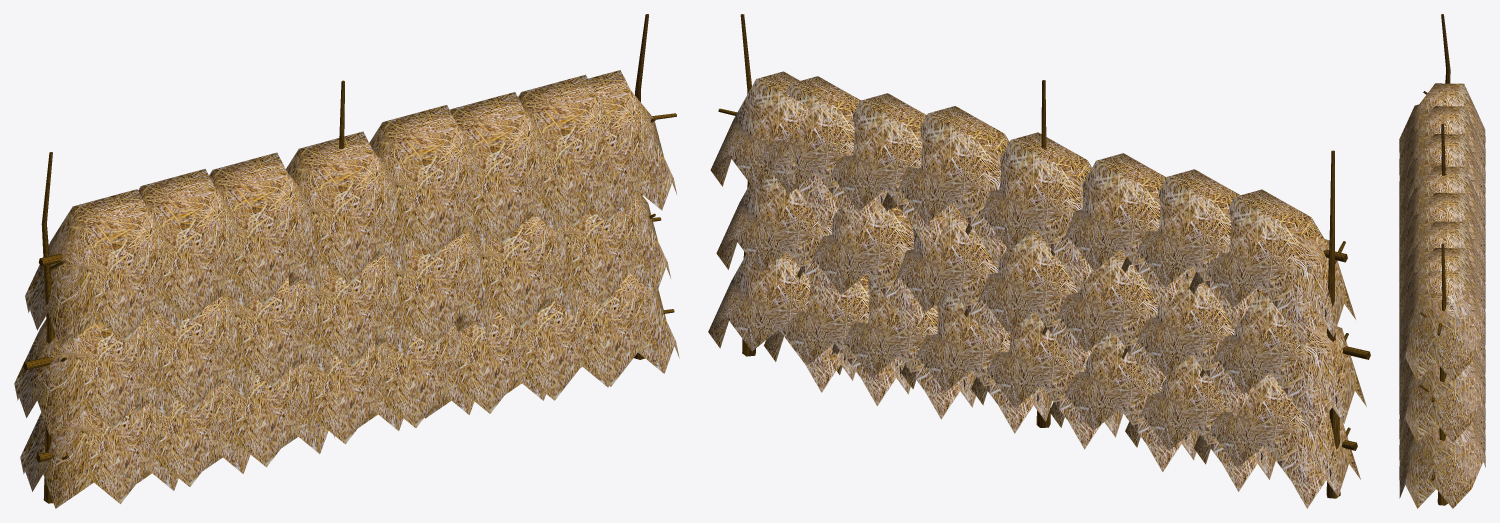
Rendered from Hay.obj.
3 views of the same model, side by side, from view 1: azimuth 30°, elevation 25°; view 2: azimuth 150°, elevation 25°; view 3: azimuth 270°, elevation 25° (orthographic). The views are drawn at different scales.
Parts seen in each view (by area): view 1: Hay_All, Hay_Stack, Rig; view 2: Hay_All, Hay_Stack, Rig; view 3: Hay_All, Rig.
Boxes of the visible parts, box(x1,y1,x2,y2) form: Hay_All: box(14, 70, 679, 486); Hay_Stack: box(20, 403, 178, 508); Rig: box(41, 14, 648, 503); Hay_All: box(708, 71, 1366, 491); Hay_Stack: box(1194, 373, 1360, 508); Rig: box(740, 14, 1340, 498); Hay_All: box(1399, 83, 1485, 508); Rig: box(1437, 14, 1450, 505).
Bounding box in the file's own units: 273 × 139 × 40.65.
2 materials, 2 textured.
